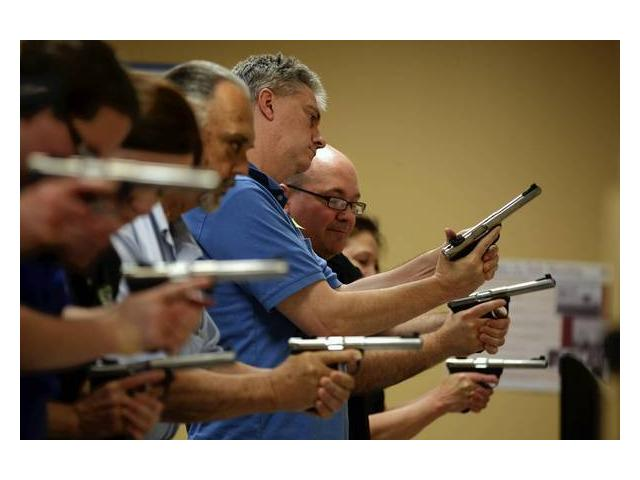pistol: (26, 148, 226, 253), (121, 257, 290, 351), (88, 352, 237, 431), (439, 181, 551, 284), (287, 334, 426, 412), (446, 269, 558, 349), (445, 353, 551, 413)
